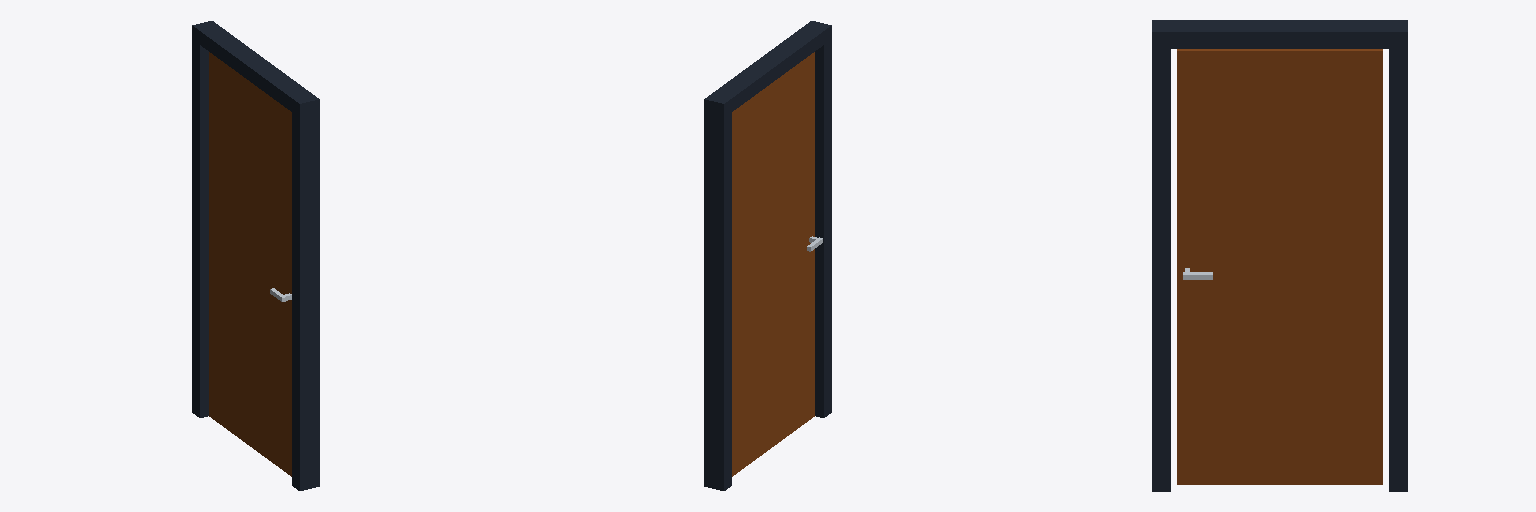
The robot description file, URDF, robot "left_hinge_right_handle_door":
<?xml version="1.0" ?>
<robot name="left_hinge_right_handle_door">
  <material name="frame">
    <color rgba="0.17 0.2 0.25 1"/>
  </material>
  <material name="wood">
    <color rgba="0.56 0.32 0.14 1"/>
  </material>
  <material name="metal">
    <color rgba="0.8 0.83 0.86 1"/>
  </material>
  <link name="frame">
    <inertial>
      <origin xyz="0 0 0" rpy="0 0 0"/>
      <mass value="1.0"/>
      <inertia ixx="0.001666666666666667" iyy="0.001666666666666667" izz="0.001666666666666667" ixy="0" ixz="0" iyz="0"/>
    </inertial>
    <visual name="left_post_visual">
      <origin xyz="0 0.52 1.0725" rpy="0 0 0"/>
      <geometry>
        <box size="0.12 0.08 2.145"/>
      </geometry>
      <material name="frame"/>
    </visual>
    <collision name="left_post_collision">
      <origin xyz="0 0.52 1.0725" rpy="0 0 0"/>
      <geometry>
        <box size="0.12 0.08 2.145"/>
      </geometry>
    </collision>
    <visual name="right_post_visual">
      <origin xyz="0 -0.52 1.0725" rpy="0 0 0"/>
      <geometry>
        <box size="0.12 0.08 2.145"/>
      </geometry>
      <material name="frame"/>
    </visual>
    <collision name="right_post_collision">
      <origin xyz="0 -0.52 1.0725" rpy="0 0 0"/>
      <geometry>
        <box size="0.12 0.08 2.145"/>
      </geometry>
    </collision>
    <visual name="lintel_visual">
      <origin xyz="0 0 2.185" rpy="0 0 0"/>
      <geometry>
        <box size="0.12 1.12 0.08"/>
      </geometry>
      <material name="frame"/>
    </visual>
    <collision name="lintel_collision">
      <origin xyz="0 0 2.185" rpy="0 0 0"/>
      <geometry>
        <box size="0.12 1.12 0.08"/>
      </geometry>
    </collision>
  </link>
  <link name="panel">
    <inertial>
      <origin xyz="0 -0.45 1.065" rpy="0 0 0"/>
      <mass value="12.0"/>
      <inertia ixx="5.220000000000001" iyy="4.412025" izz="0.8120250000000001" ixy="0" ixz="0" iyz="0"/>
    </inertial>
    <visual name="leaf_visual">
      <origin xyz="0 -0.45 1.065" rpy="0 0 0"/>
      <geometry>
        <box size="0.045 0.9 2.1"/>
      </geometry>
      <material name="wood"/>
    </visual>
    <collision name="leaf_collision">
      <origin xyz="0 -0.45 1.065" rpy="0 0 0"/>
      <geometry>
        <box size="0.045 0.9 2.1"/>
      </geometry>
    </collision>
  </link>
  <joint name="door_hinge" type="revolute">
    <parent link="frame"/>
    <child link="panel"/>
    <origin xyz="0 0.45 0" rpy="0 0 0"/>
    <axis xyz="0 0 1"/>
    <limit lower="0" upper="1.9198621771937625" effort="40" velocity="4"/>
    <dynamics damping="0" friction="0"/>
  </joint>
  <link name="handle">
    <inertial>
      <origin xyz="0 0 0" rpy="0 0 0"/>
      <mass value="0.15"/>
      <inertia ixx="0.00021906250000000005" iyy="1.28125e-05" izz="0.00021625000000000005" ixy="0" ixz="0" iyz="0"/>
    </inertial>
    <visual name="lever_visual">
      <origin xyz="0 0 0" rpy="0 0 0"/>
      <geometry>
        <box size="0.024 0.13 0.025"/>
      </geometry>
      <material name="metal"/>
    </visual>
    <collision name="lever_collision">
      <origin xyz="0 0 0" rpy="0 0 0"/>
      <geometry>
        <box size="0.024 0.13 0.025"/>
      </geometry>
    </collision>
    <visual name="stem_visual">
      <origin xyz="0.02625 -0.0455 0" rpy="0 0 0"/>
      <geometry>
        <box size="0.0525 0.025 0.025"/>
      </geometry>
      <material name="metal"/>
    </visual>
    <collision name="stem_collision">
      <origin xyz="0.02625 -0.0455 0" rpy="0 0 0"/>
      <geometry>
        <box size="0.0525 0.025 0.025"/>
      </geometry>
    </collision>
  </link>
  <joint name="handle_mount" type="fixed">
    <parent link="panel"/>
    <child link="handle"/>
    <origin xyz="-0.075 -0.81 1.05" rpy="0 0 0"/>
  </joint>
  <link name="handle_back">
    <inertial>
      <origin xyz="0 0 0" rpy="0 0 0"/>
      <mass value="0.15"/>
      <inertia ixx="0.00021906250000000005" iyy="1.28125e-05" izz="0.00021625000000000005" ixy="0" ixz="0" iyz="0"/>
    </inertial>
    <visual name="lever_visual">
      <origin xyz="0 0 0" rpy="0 0 0"/>
      <geometry>
        <box size="0.024 0.13 0.025"/>
      </geometry>
      <material name="metal"/>
    </visual>
    <collision name="lever_collision">
      <origin xyz="0 0 0" rpy="0 0 0"/>
      <geometry>
        <box size="0.024 0.13 0.025"/>
      </geometry>
    </collision>
    <visual name="stem_visual">
      <origin xyz="-0.02625 -0.0455 0" rpy="0 0 0"/>
      <geometry>
        <box size="0.0525 0.025 0.025"/>
      </geometry>
      <material name="metal"/>
    </visual>
    <collision name="stem_collision">
      <origin xyz="-0.02625 -0.0455 0" rpy="0 0 0"/>
      <geometry>
        <box size="0.0525 0.025 0.025"/>
      </geometry>
    </collision>
  </link>
  <joint name="handle_back_mount" type="fixed">
    <parent link="panel"/>
    <child link="handle_back"/>
    <origin xyz="0.075 -0.81 1.05" rpy="0 0 0"/>
  </joint>
</robot>

--- Facts derived from the render (not from the file) ---
3 views of the same robot in one strip: view 1: azimuth 30°, elevation 25°; view 2: azimuth 150°, elevation 25°; view 3: azimuth 270°, elevation 25° (orthographic).
Model left_hinge_right_handle_door with 4 links and 3 joints (1 revolute, 2 fixed), rooted at frame, posed all joints at 0.
Visible links, largest first — view 1: panel, frame; view 2: panel, frame; view 3: panel, frame.
Boxes of the visible links, <box> form: panel: <box>209,52,291,476</box>; frame: <box>192,21,319,490</box>; panel: <box>732,52,814,476</box>; frame: <box>704,21,831,490</box>; panel: <box>1177,49,1382,484</box>; frame: <box>1152,20,1407,491</box>.
Size in the robot's own frame: 0.174 by 1.12 by 2.23 metres.
Geometry: primitives only (box / cylinder / sphere), no mesh files.
